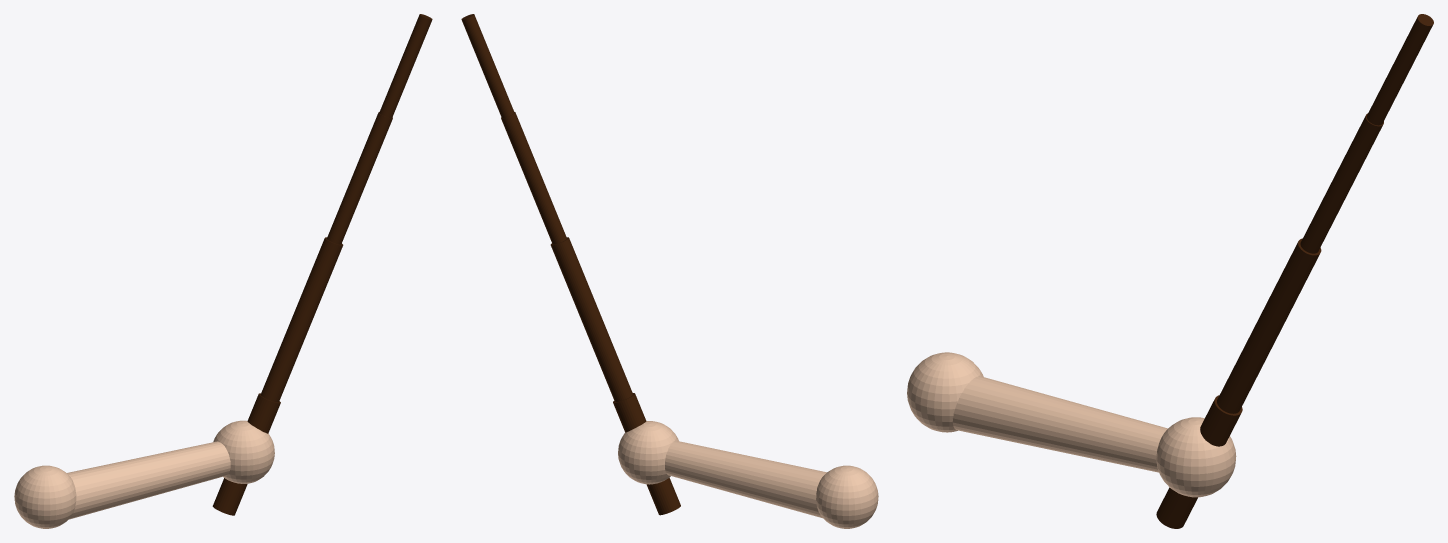
File: ExportedBlenderFBXFile.fbx
The picture shows the model from 3 angles, left to right: view 1: azimuth 30°, elevation 25°; view 2: azimuth 150°, elevation 25°; view 3: azimuth 330°, elevation 25°; orthographic projection. The views are drawn at different scales.
Parts seen in each view (by area): view 1: Cylinder; view 2: Cylinder; view 3: Cylinder.
Boxes of the visible parts, x1,y1,x2,y2 form: Cylinder: [14, 14, 432, 528]; Cylinder: [461, 14, 878, 528]; Cylinder: [907, 14, 1433, 528].
Bounding box in the file's own units: 6.25 × 6.54 × 0.8396.
